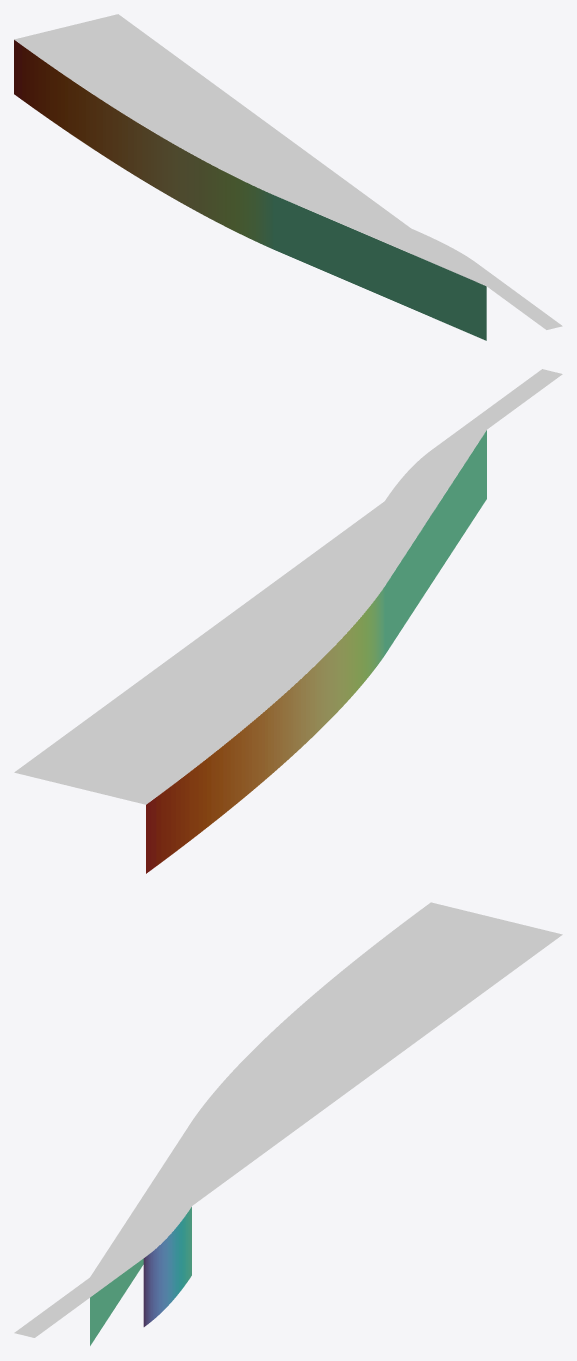
File: scramjet_n100_m38.glb
The picture shows the model from 3 angles, top to bottom: view 1: azimuth 30°, elevation 25°; view 2: azimuth 150°, elevation 25°; view 3: azimuth 330°, elevation 25°; orthographic projection. The views are drawn at different scales.
Visible parts, largest first — view 1: Renderer Node; view 2: Renderer Node; view 3: Renderer Node.
Part boxes in pixels (left/top/right/bottom): Renderer Node: left=14, top=14, right=562, bottom=340; Renderer Node: left=14, top=369, right=562, bottom=873; Renderer Node: left=14, top=902, right=562, bottom=1345.
Size of the model in its own units: 1.13 by 0.5006 by 7.16.
